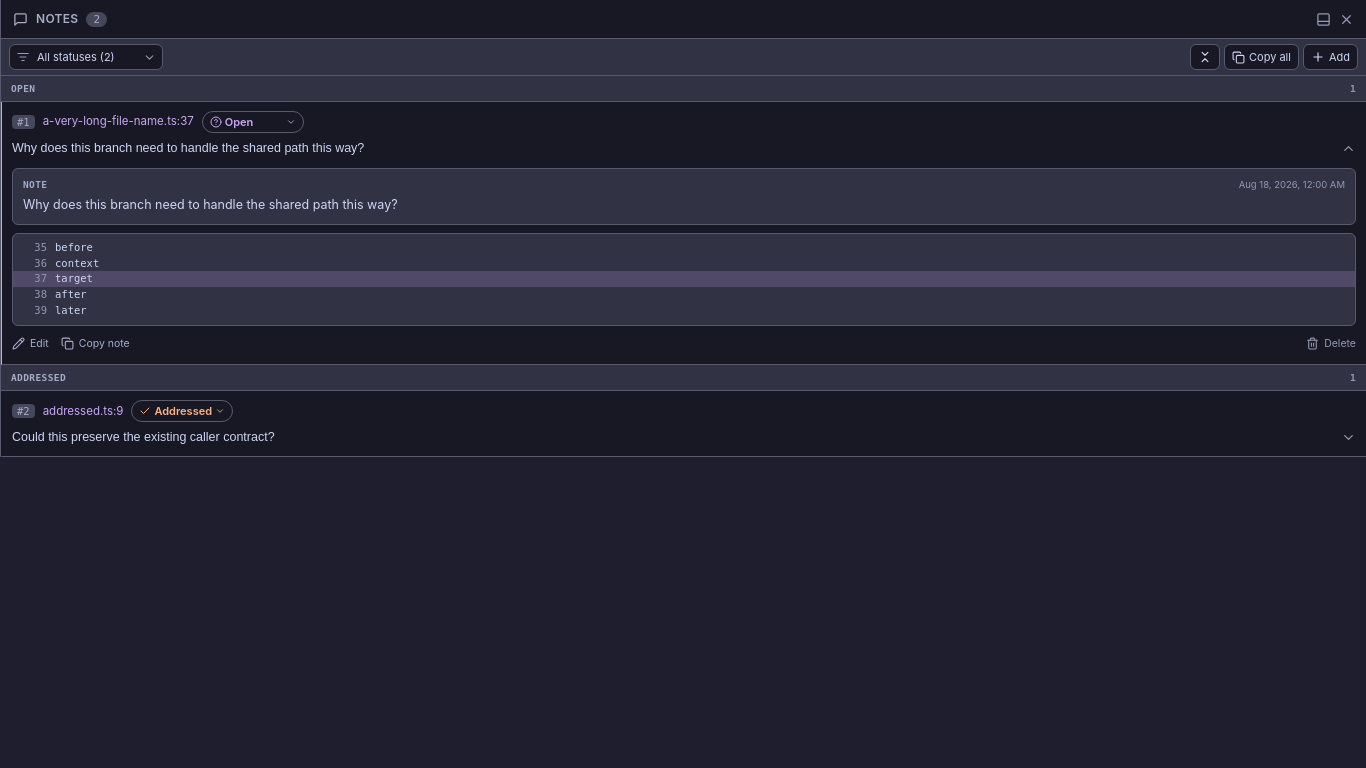
Test: NotesDrawer › counts what a delete would take with it
The width and height of the screenshot is (1366, 768).
Click the button with aria-label "Delete note 1" at [1331, 344], box [1306, 334, 1356, 353]
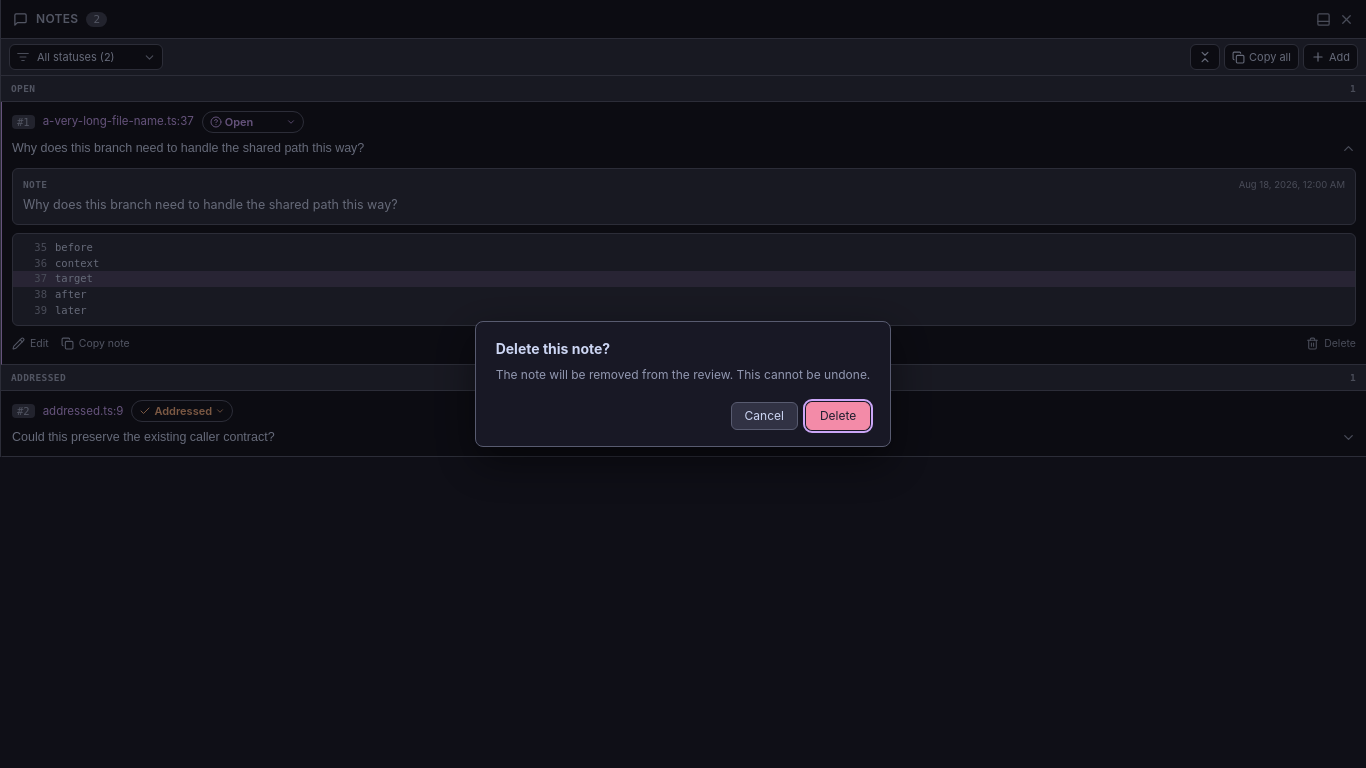
Check: the text with class "detail" shows "cannot be undone", box [496, 367, 870, 382]
